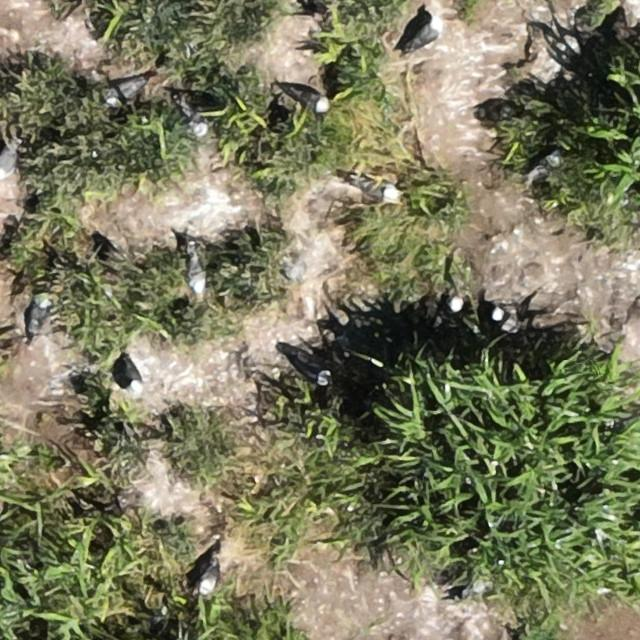umineko: (352, 170, 404, 206), (493, 306, 528, 339), (452, 296, 480, 328), (111, 77, 145, 99), (291, 89, 326, 110), (413, 19, 441, 45), (188, 254, 206, 292), (28, 300, 48, 334), (0, 144, 15, 179), (125, 360, 142, 389), (201, 566, 218, 593)
